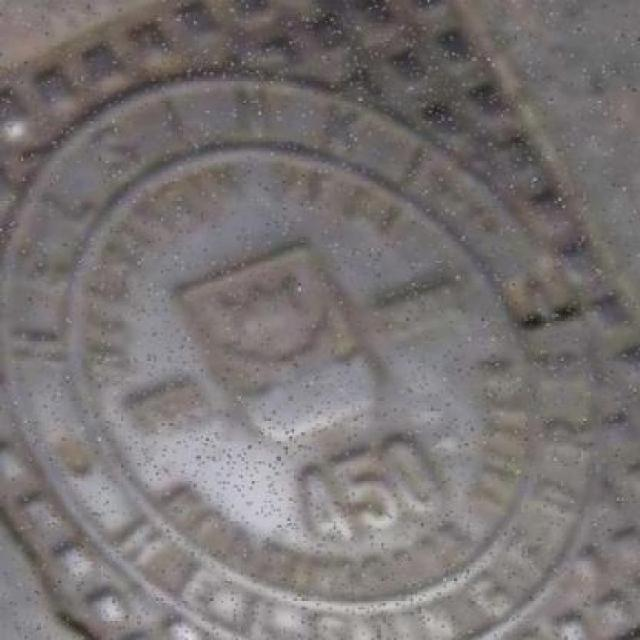Manhole: (2, 2, 638, 640)
